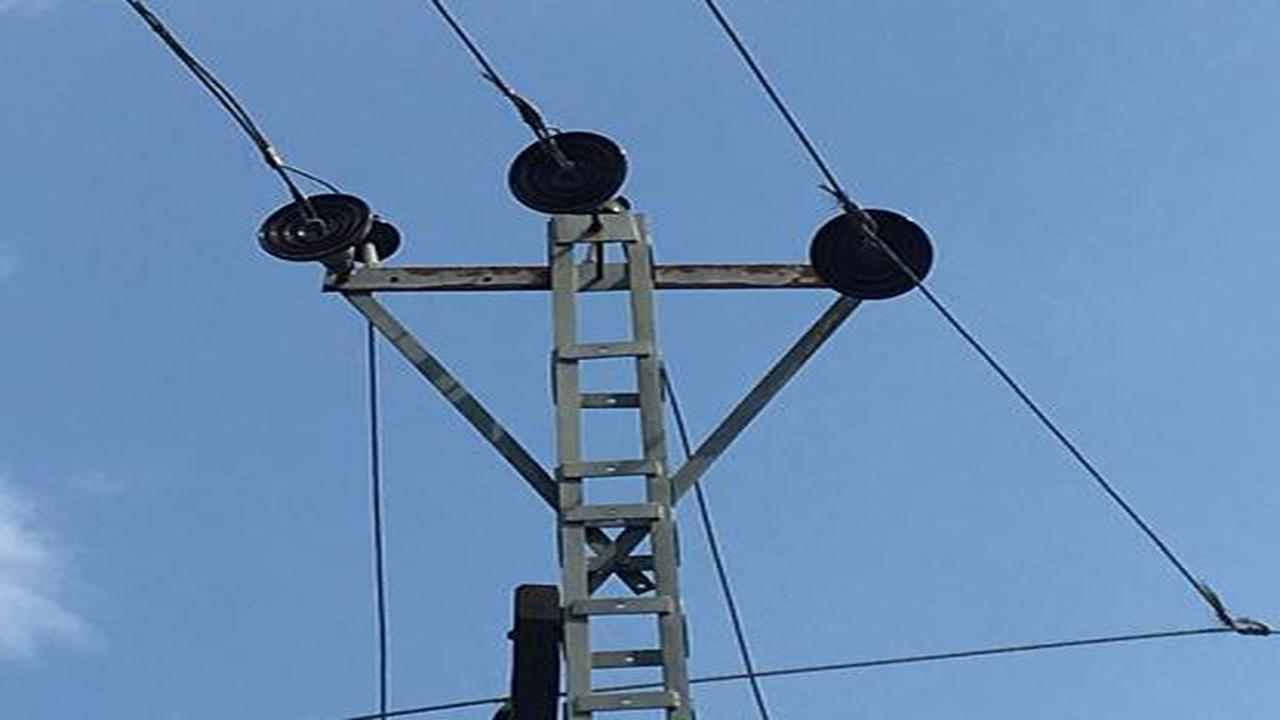insulator_disc: (806, 194, 939, 305), (500, 121, 633, 223), (255, 187, 373, 266)
